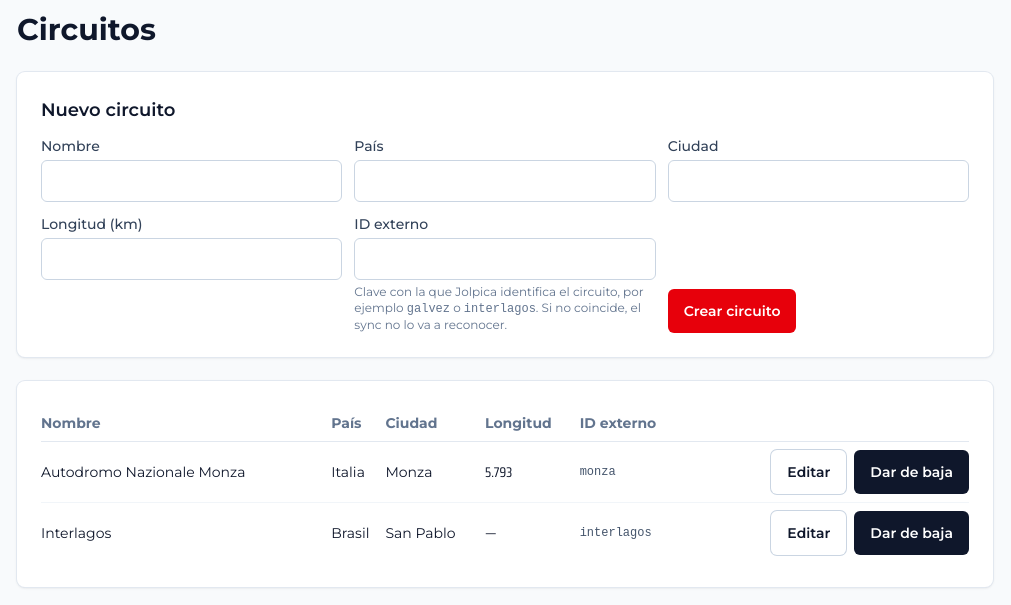
Test: CircuitsPage › edita un circuito existente y el cambio persiste
Click the button with aria-label "Editar Interlagos" at coordinates (809, 533), box [771,511,846,555]
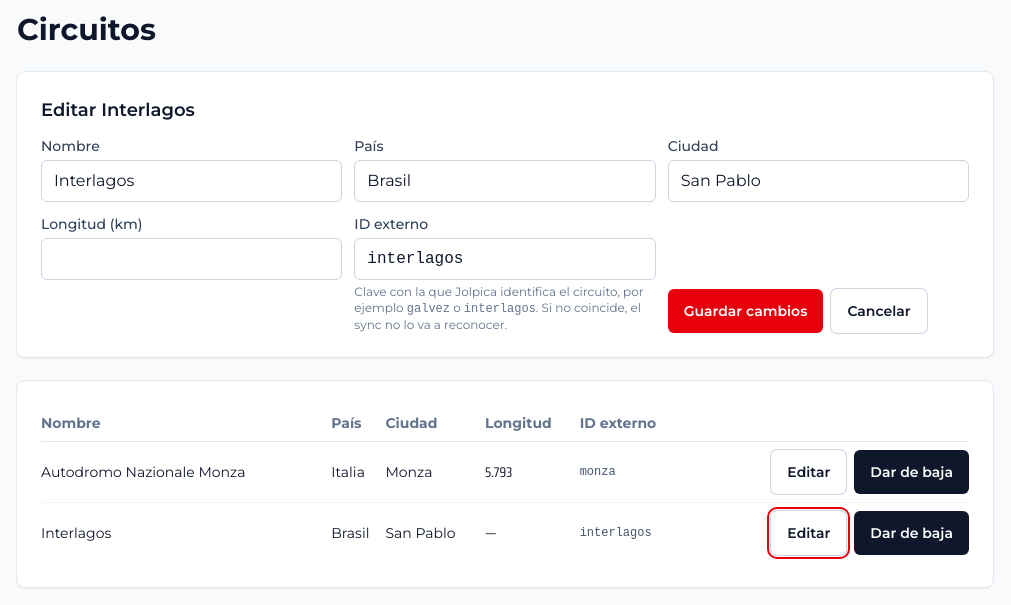
Now the field labelled "Nombre" holds "Interlagos", box [41,160,342,202]
Replace the text in the field labelled "Ciudad" with "São Paulo" at coordinates (818, 181), box [668,160,969,202]
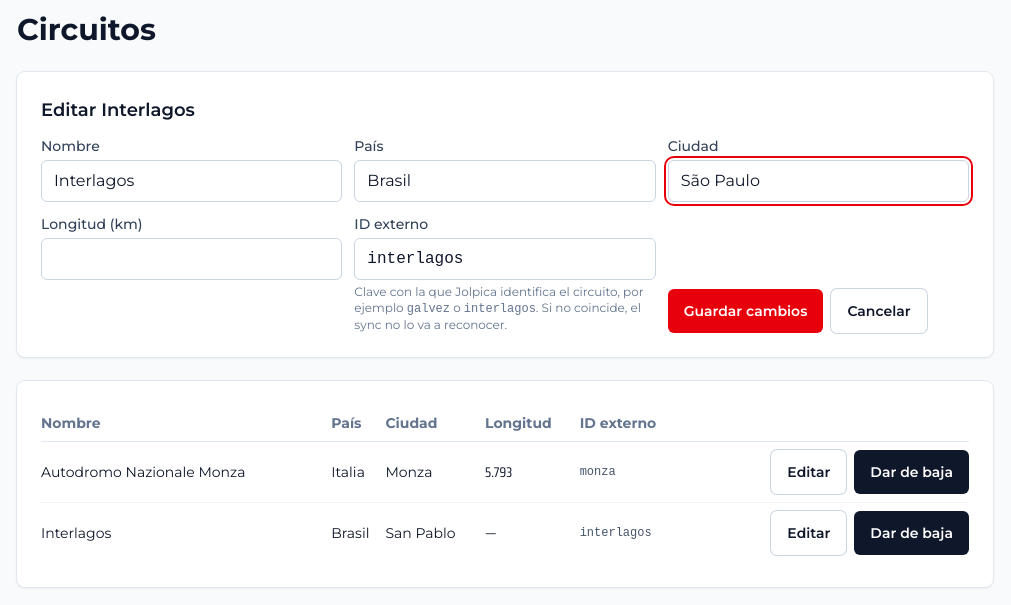
Click the button "Guardar cambios" at coordinates (746, 311), box [668,289,823,333]
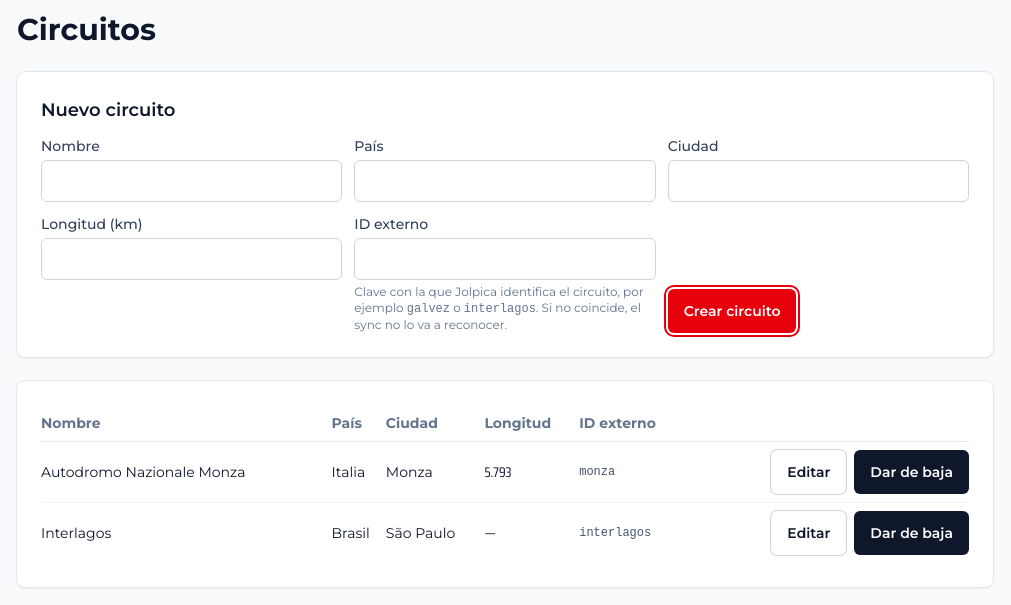
Now the text "São Paulo" is shown, box [386,502,484,563]
